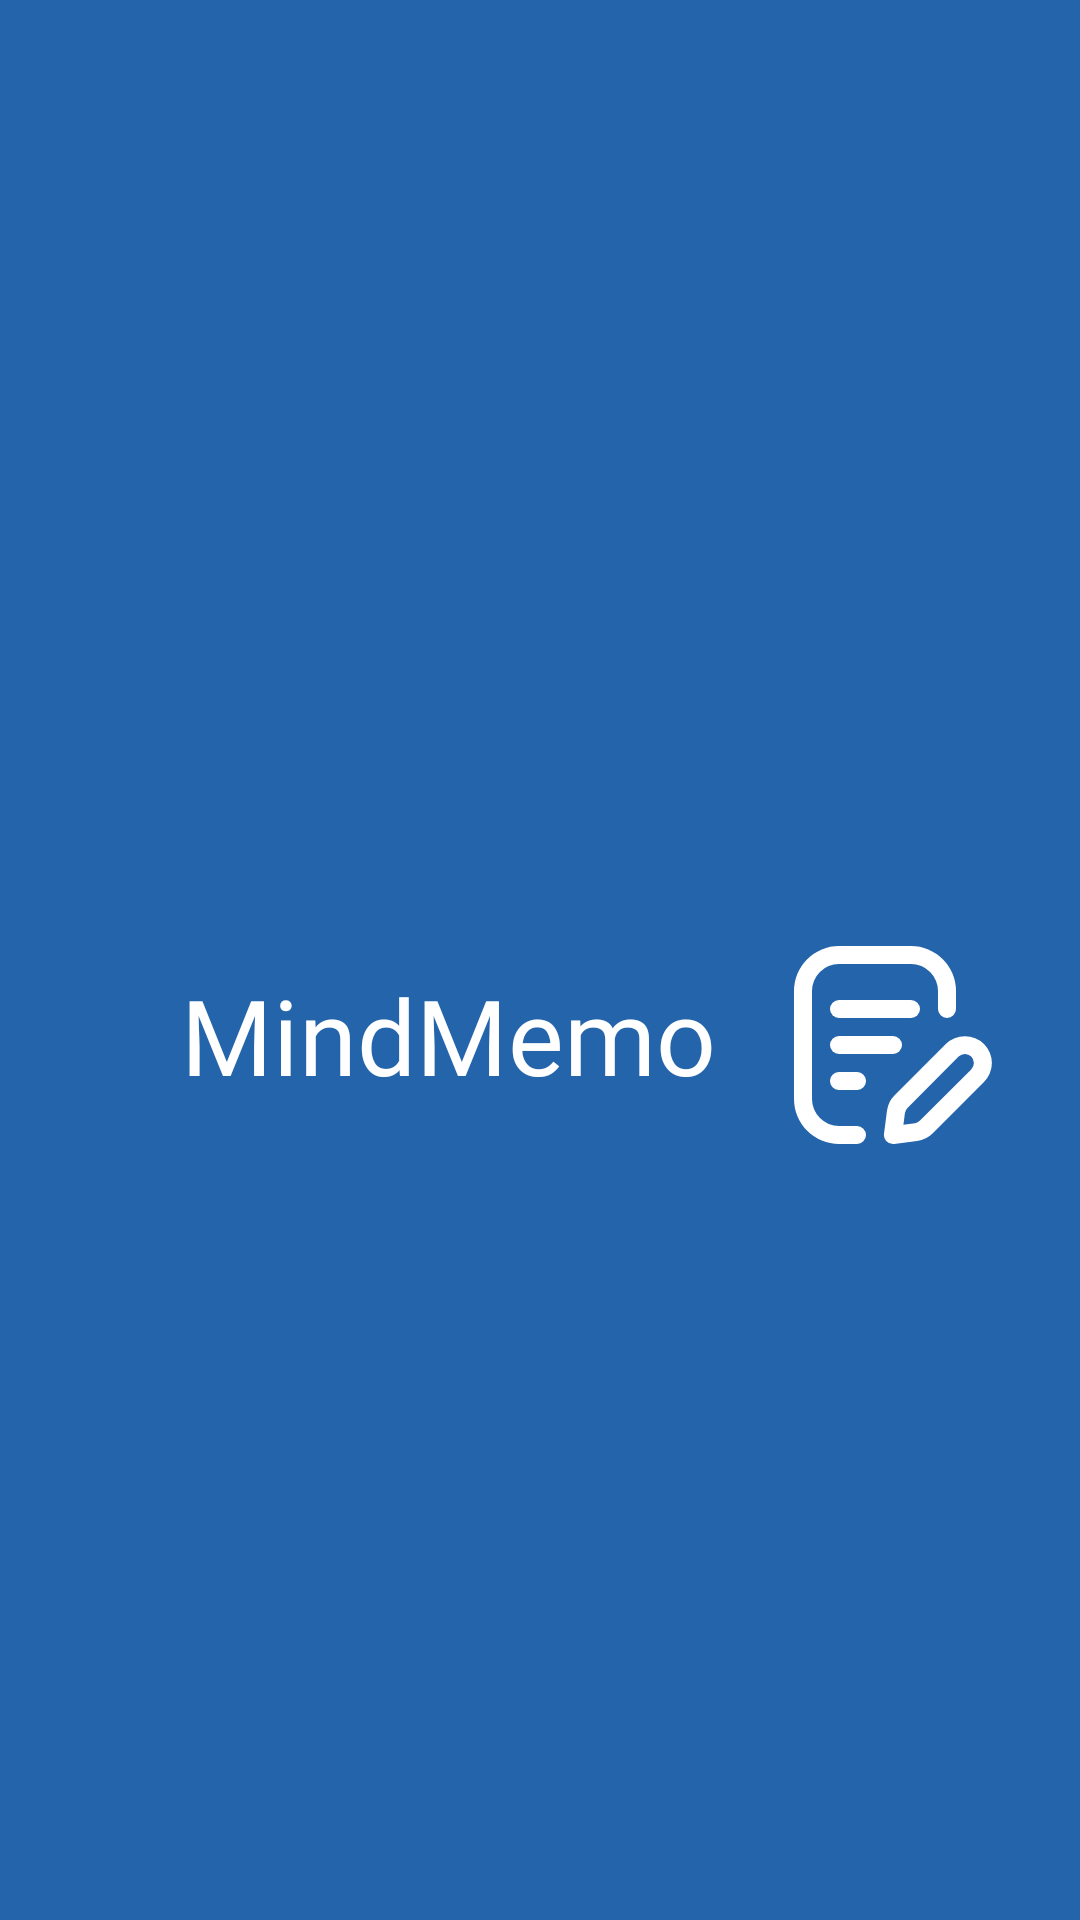

Where to tap for icons on this 1080x1920 app screen, as (x=x, y=y):
pencil: (x=893, y=1045)
